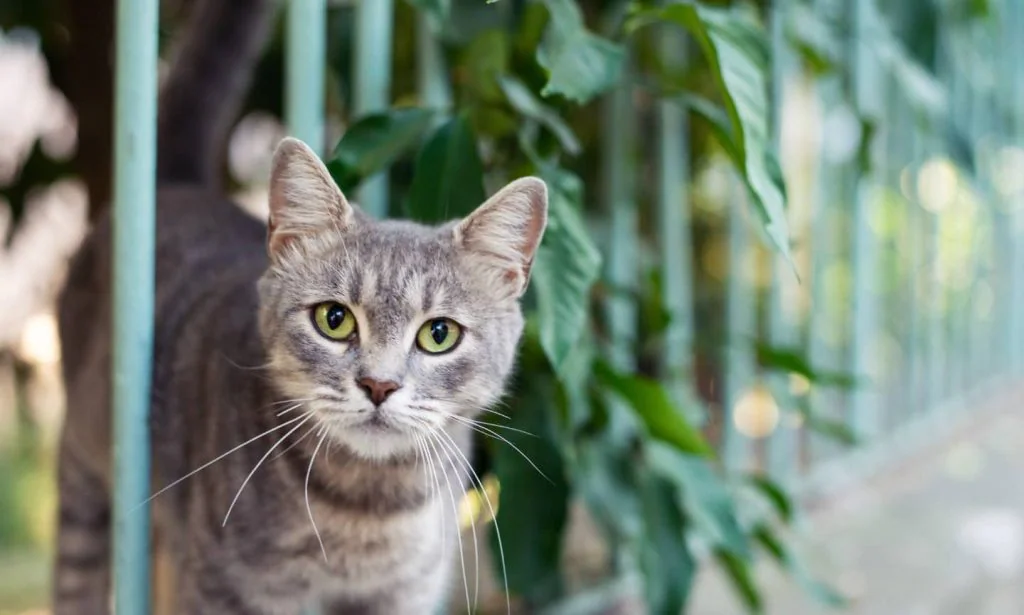Cat: (206, 122, 561, 592)
